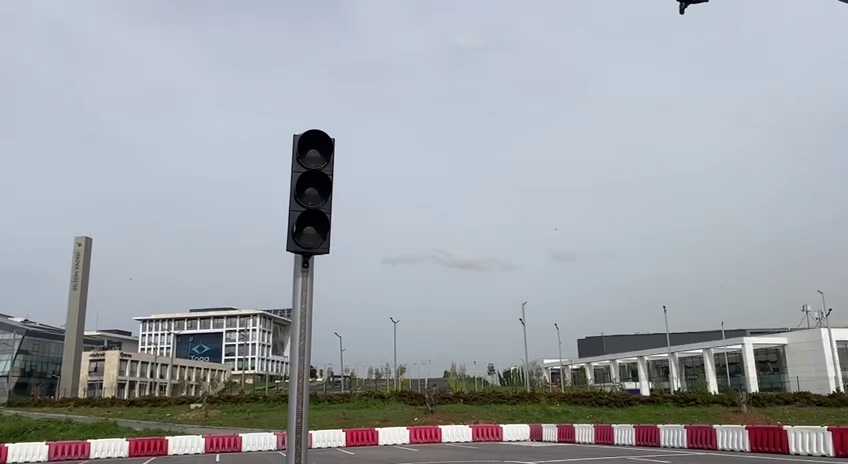trafficLight: (280, 125, 339, 260)
